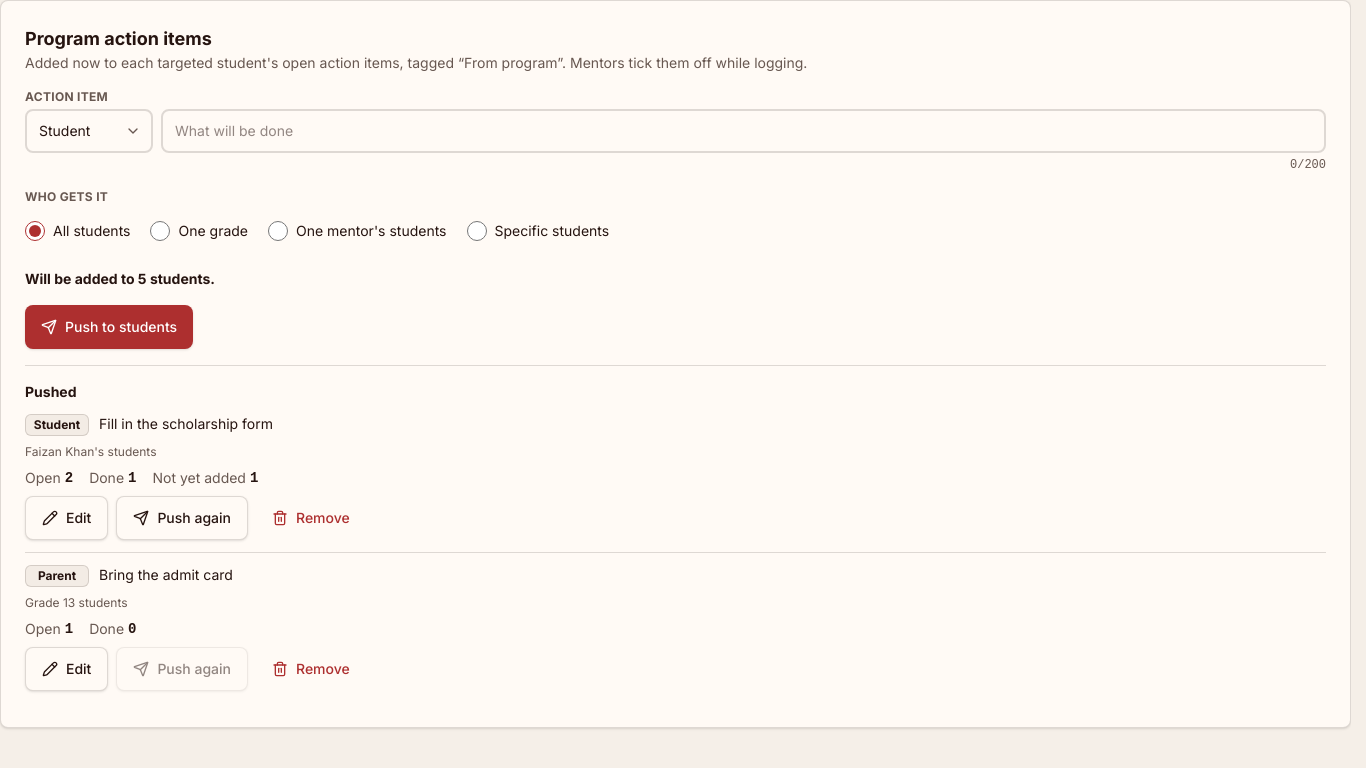
Test: CommonActionItemsManager — pushed items › says when pushing again added it to no one, as when they got it meanwhile
Click the button with aria-label "Push again: Fill in the scholarship form" at coordinates (182, 518), box [116,496,248,540]
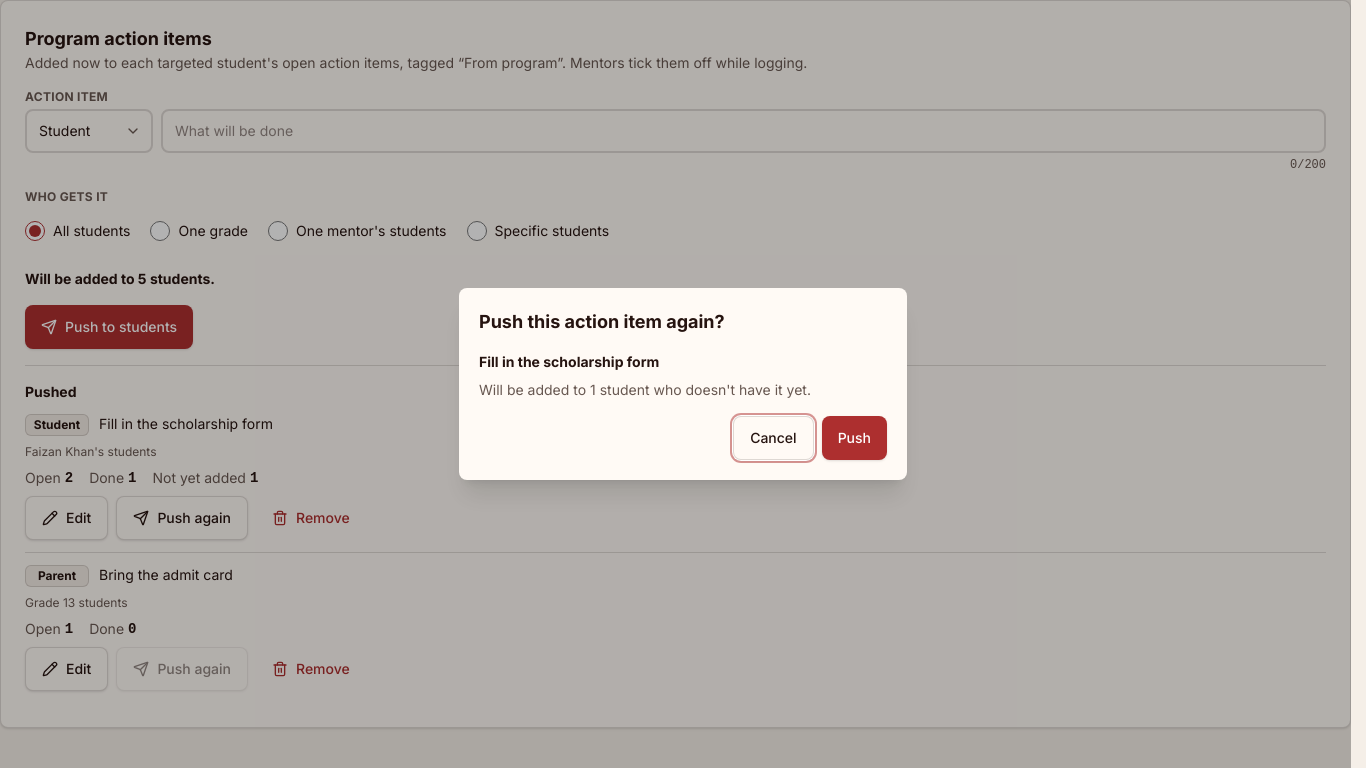
Click the button "Push" at coordinates (854, 438), box [822,416,887,460]
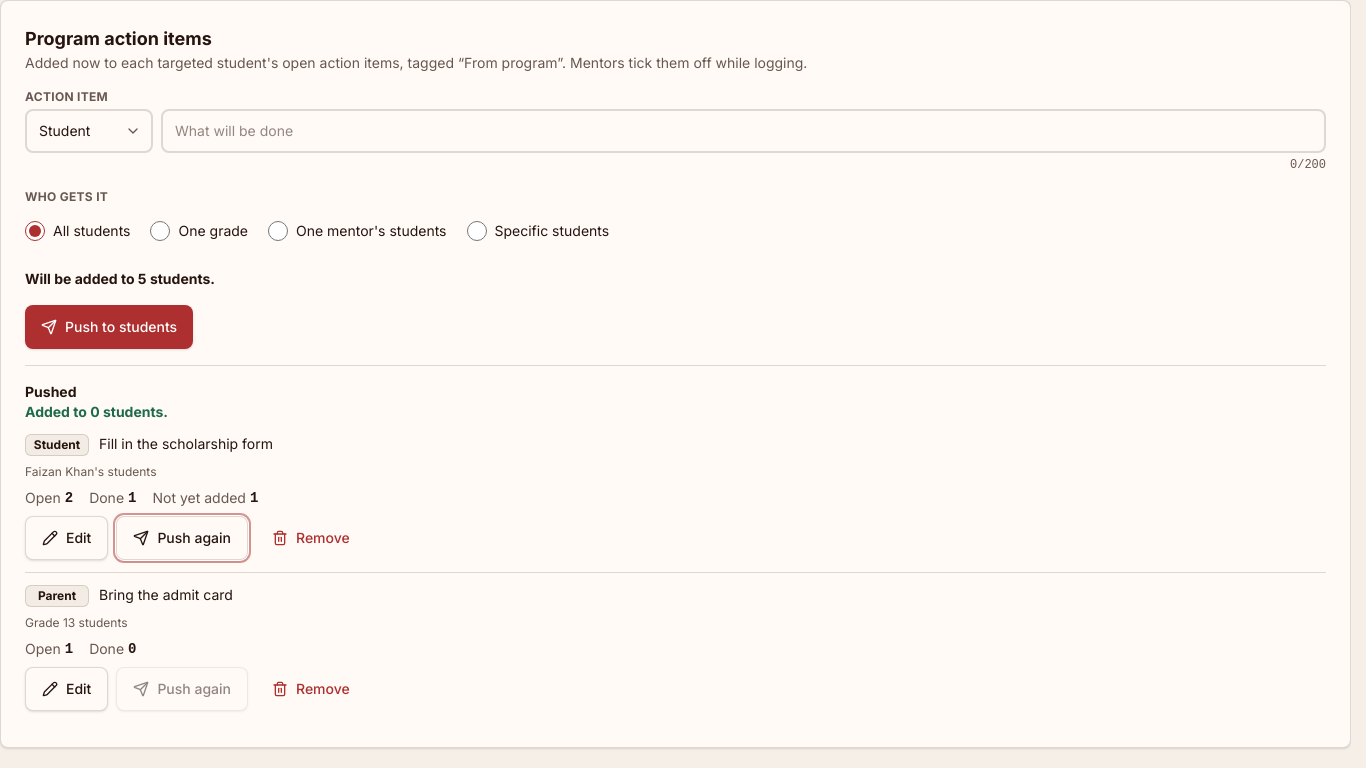
Check: the message reads "Added to 0 students.", box [25,403,168,420]
